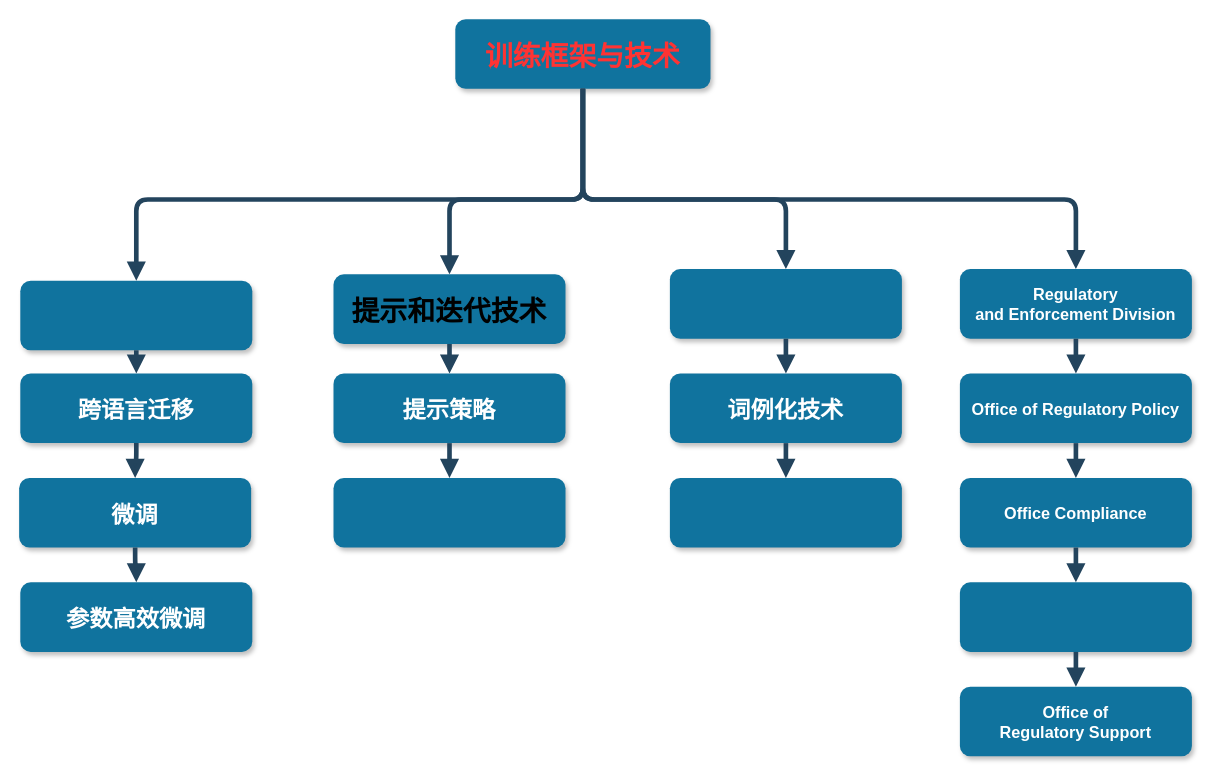
Some shapes in this 1211 by 775 pixel diagram are drawn without their labels. The shapes that lost their labels are listed below. From the top down, each one's centre as x and y in pixels, then its label:
At pixel 137 317: "模型适配技术".
At pixel 786 305: "I/O与解码技术".
At pixel 450 514: "迭代反馈".
At pixel 786 514: "解码".
At pixel 1076 618: "Office of Enforcement".
